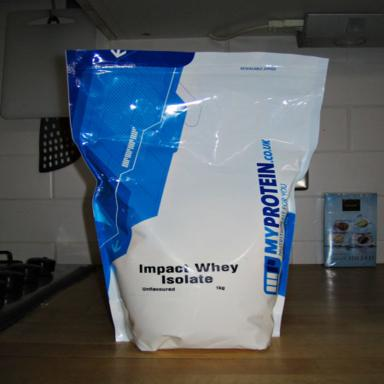plasticbag: (63, 47, 330, 354)
